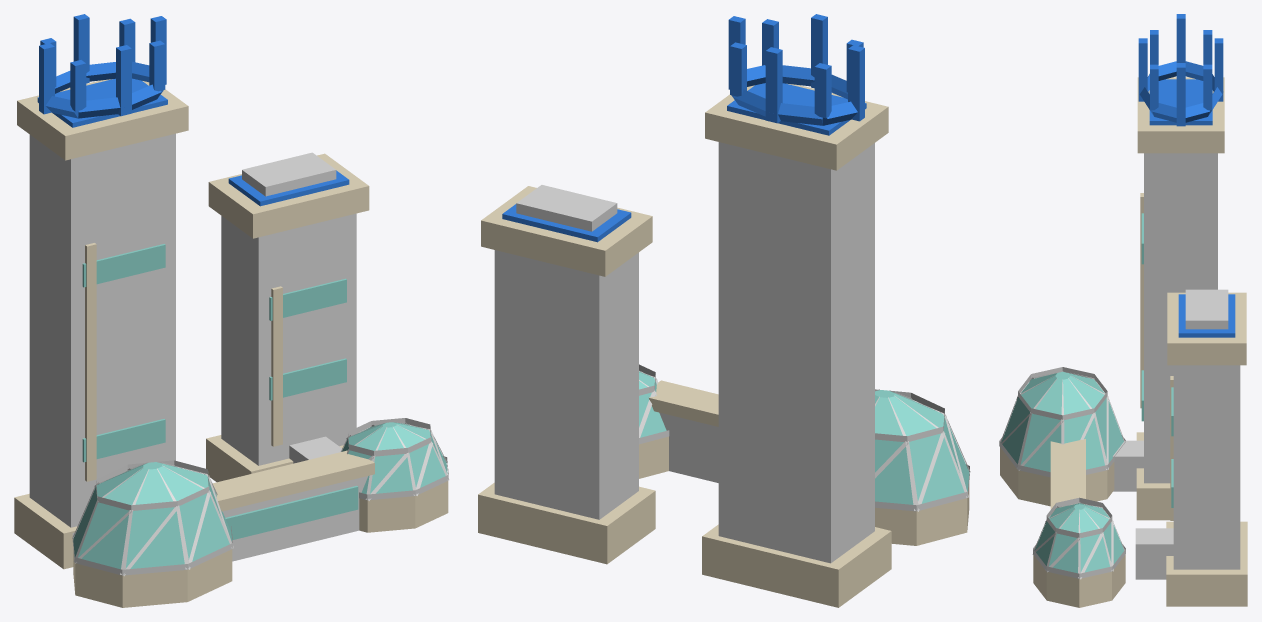
The model's file is space_capital_crown.glb.
The picture shows the model from 3 angles, left to right: view 1: azimuth 30°, elevation 25°; view 2: azimuth 150°, elevation 25°; view 3: azimuth 270°, elevation 25°; orthographic projection. The views are drawn at different scales.
Parts seen in each view (by area): view 1: WoodBody, FixedDetails, BrassTrim; view 2: WoodBody, FixedDetails, BrassTrim; view 3: WoodBody, FixedDetails, BrassTrim.
Boxes of the visible parts, left/top/right/bottom form: WoodBody: left=29, top=133, right=449, bottom=576; FixedDetails: left=14, top=79, right=448, bottom=607; BrassTrim: left=37, top=14, right=349, bottom=206; WoodBody: left=494, top=142, right=970, bottom=563; FixedDetails: left=478, top=83, right=969, bottom=607; BrassTrim: left=502, top=14, right=866, bottom=242; WoodBody: left=999, top=153, right=1240, bottom=579; FixedDetails: left=1000, top=77, right=1247, bottom=607; BrassTrim: left=1138, top=14, right=1235, bottom=337.
Bounding box in the file's own units: 0.3973 × 0.4996 × 0.249.
